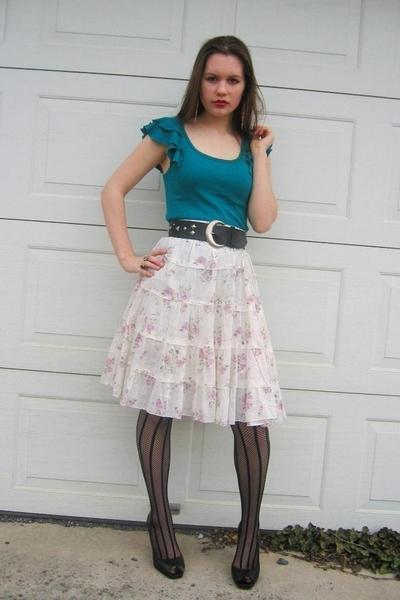shirt: (141, 112, 267, 228)
shoe: (156, 552, 259, 587)
skirt: (114, 237, 275, 425)
